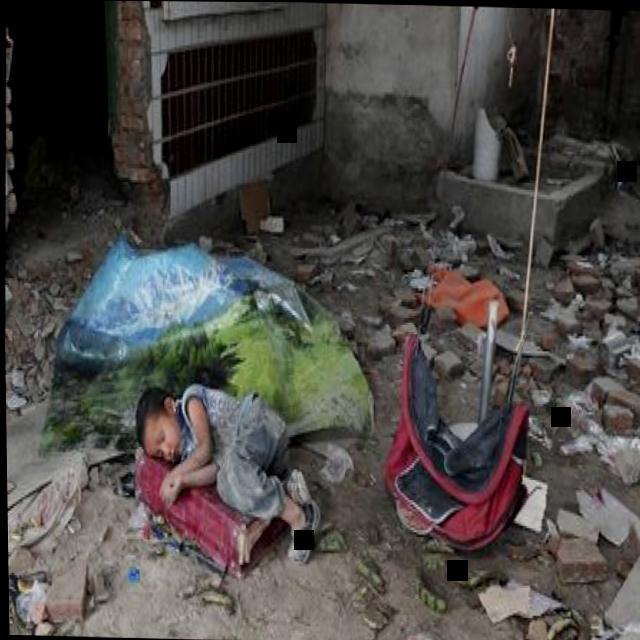Fall-Detected: (128, 373, 330, 561)
